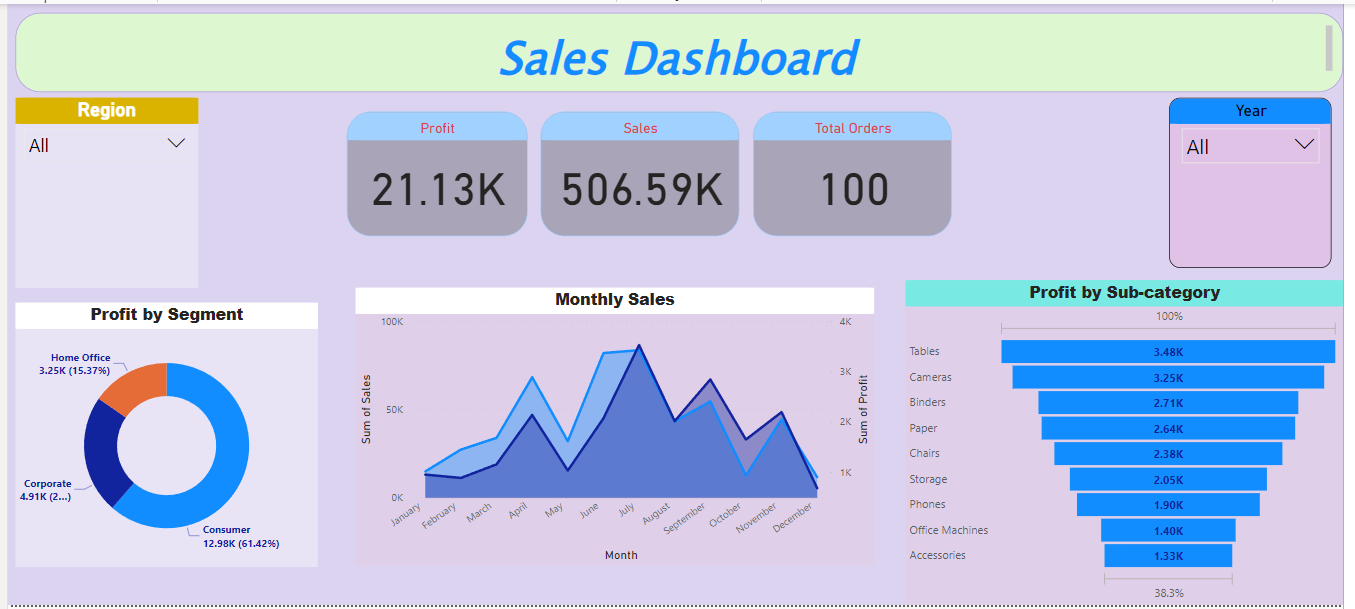

What the dashboard file says about the page in this screenshot:
{"tool":"powerbi","page":{"name":"Sales","canvas":[1600,720],"ordinal":0},"visuals":[{"type":"textbox","box":[9,10.2,1591.3,94.8],"z":0},{"type":"card","title":"Profit","fields":{"Values":["Sum(Sales Information.Profit)"]},"box":[406.2,129.4,216.5,149.9],"z":1000},{"type":"card","title":"Sales","fields":{"Values":["Sum(Sales Information.Sales)"]},"box":[638.1,129.4,238.3,149.9],"z":2000},{"type":"slicer","title":"Region","fields":{"Values":["Sales Information.Region","Sales Information.Country"]},"box":[9,112.7,219.1,228.1],"z":3000},{"type":"donutChart","title":"Profit by Segment","fields":{"Y":["Sum(Sales Information.Profit)"],"Category":["Sales Information.Segment"]},"box":[9,357.5,362.6,316.5],"z":4000},{"type":"slicer","title":"Year","fields":{"Values":["Sales Information.Order_Date.Variation.Date Hierarchy.Year","Sales Information.Order_Date.Variation.Date Hierarchy.Month"]},"box":[1391.4,112.7,194.7,203.7],"z":5000},{"type":"card","title":"Total Orders","fields":{"Values":["Count(Sales Information.Order_ID)"]},"box":[893,129.4,238.3,149.9],"z":6000},{"type":"areaChart","title":"Monthly Sales ","fields":{"Category":["Sales Information.Order_Date.Variation.Date Hierarchy.Month"],"Y":["Sum(Sales Information.Sales)"],"Y2":["Sum(Sales Information.Profit)"]},"box":[416.4,340.8,621.4,333.1],"z":7000},{"type":"funnel","title":"Profit by Sub-category","fields":{"Category":["Sales Information.Column3"],"Y":["Sum(Sales Information.Profit)"]},"box":[1075,330.6,525.3,389.5],"z":9000}]}

Visuals, with their boxes in screenshot pixels (x1, y1, x2, y2), scaled from the page's 1600x720 canvas onto the 1355x609 screenshot:
textbox: locate(8, 9, 1354, 89)
"Profit" card: locate(344, 109, 527, 236)
"Sales" card: locate(540, 109, 742, 236)
"Region" slicer: locate(8, 95, 193, 288)
"Profit by Segment" donutChart: locate(8, 302, 315, 570)
"Year" slicer: locate(1178, 95, 1343, 268)
"Total Orders" card: locate(756, 109, 958, 236)
"Monthly Sales " areaChart: locate(353, 288, 879, 570)
"Profit by Sub-category" funnel: locate(910, 280, 1354, 608)
